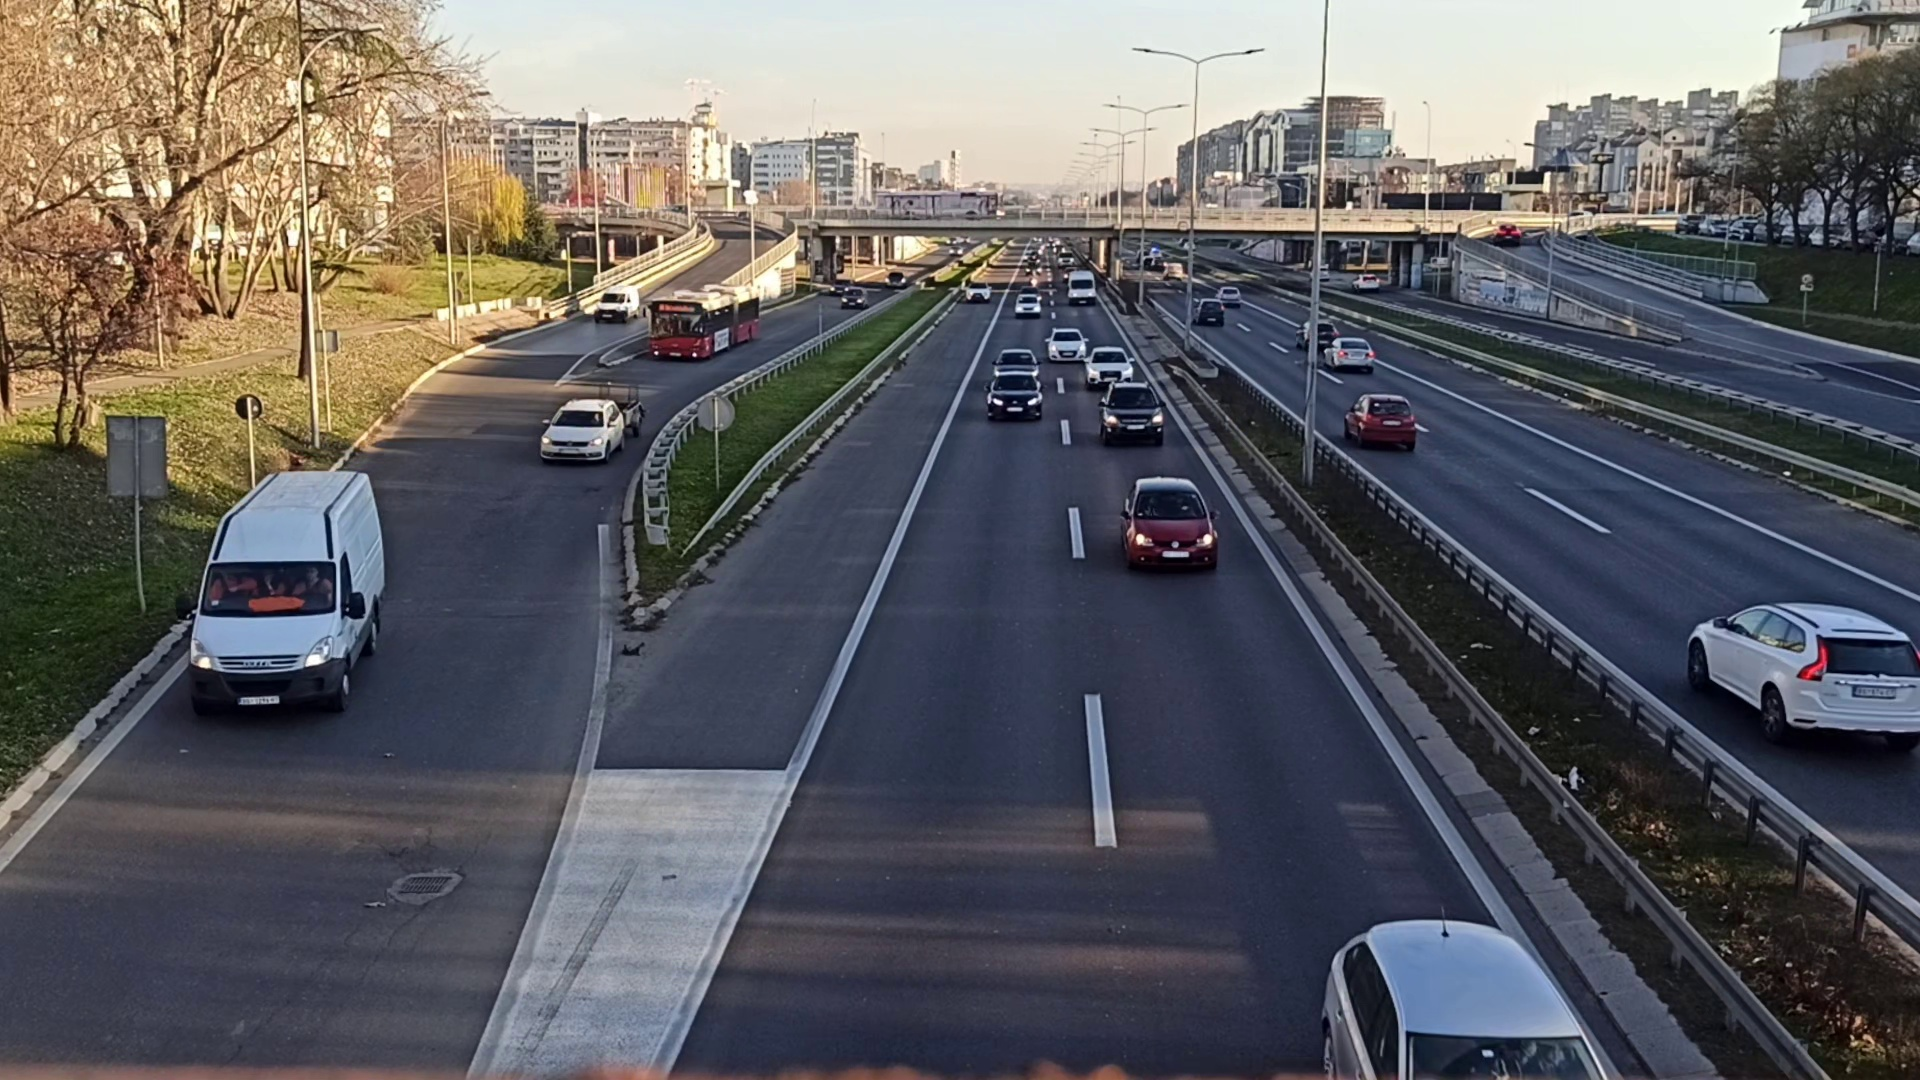bus: (650, 290, 764, 359)
car: (1689, 601, 1919, 742), (1120, 473, 1220, 571), (538, 397, 624, 467), (1100, 380, 1164, 448), (1345, 392, 1415, 448), (986, 373, 1042, 419), (1085, 347, 1131, 384), (593, 286, 637, 318), (996, 345, 1038, 375), (1047, 327, 1085, 359), (1068, 272, 1093, 306), (1015, 291, 1040, 316)
van: (190, 467, 386, 729)
